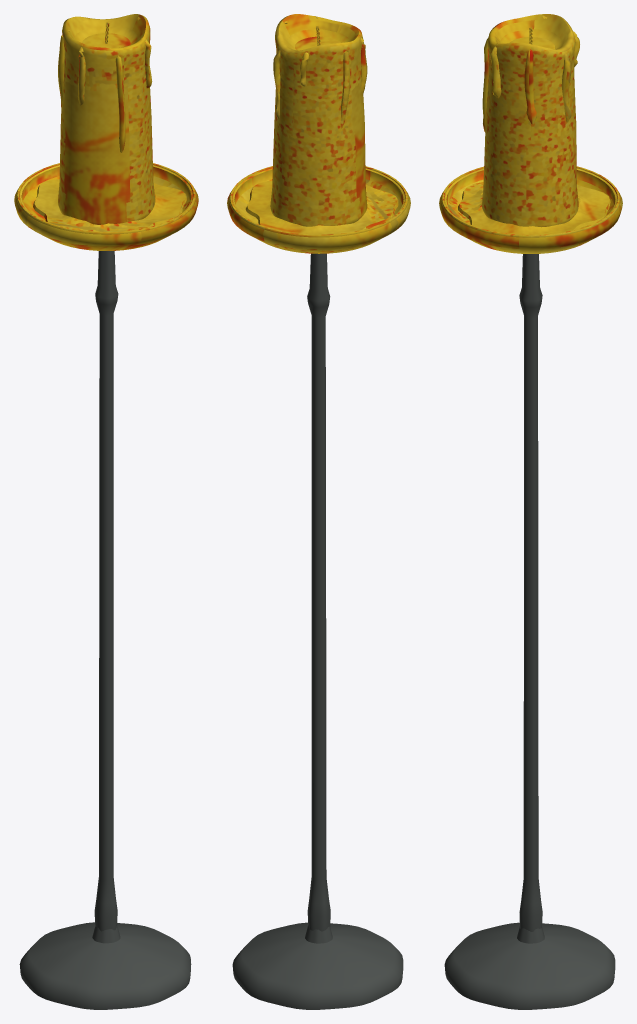
File: candle-waymark.fbx
The picture shows the model from 3 angles, left to right: view 1: azimuth 30°, elevation 25°; view 2: azimuth 150°, elevation 25°; view 3: azimuth 270°, elevation 25°; orthographic projection.
Parts seen in each view (by area): view 1: candle-waymark; view 2: candle-waymark; view 3: candle-waymark.
Part boxes in pixels (<box>): candle-waymark: <box>14,14,198,1009</box>; candle-waymark: <box>227,14,410,1009</box>; candle-waymark: <box>439,14,622,1009</box>.
Size of the model in its own units: 22.4 by 128 by 22.4.
